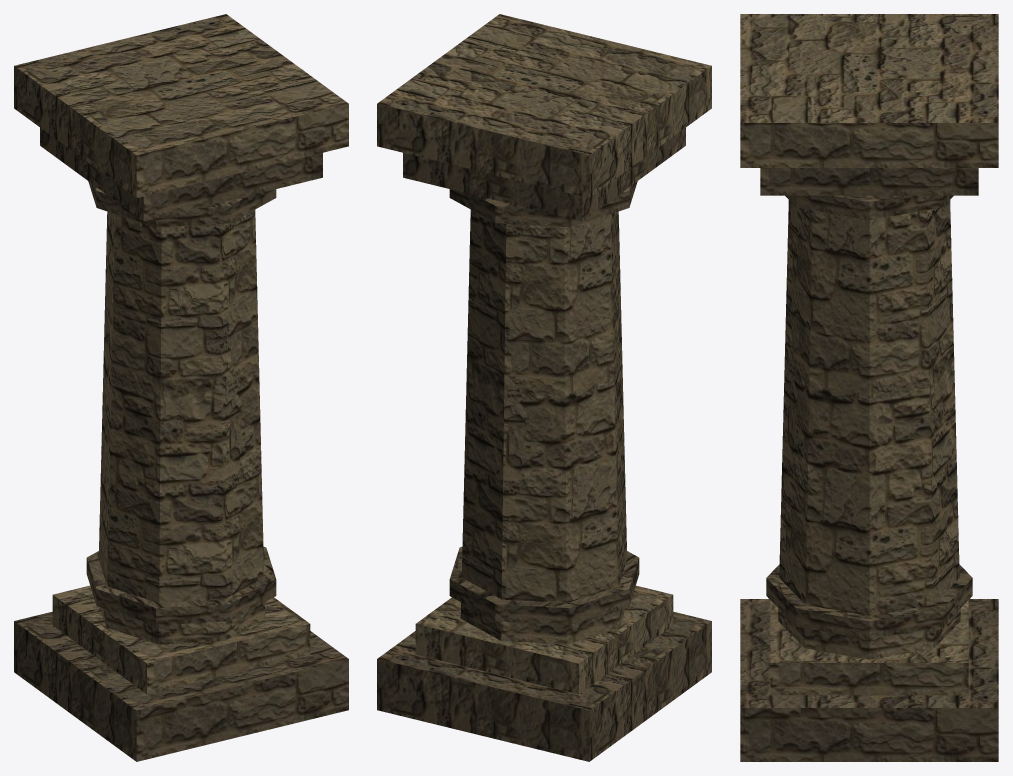
File: dungeon_pillar_01.glb
3 renders of one model, left to right at view 1: azimuth 30°, elevation 25°; view 2: azimuth 150°, elevation 25°; view 3: azimuth 270°, elevation 25°, orthographic. The views are drawn at different scales.
Parts seen in each view (by area): view 1: dungeon_pillar_01; view 2: dungeon_pillar_01; view 3: dungeon_pillar_01.
Boxes of the visible parts, x1,y1,x2,y2 form: dungeon_pillar_01: (14, 14, 348, 761); dungeon_pillar_01: (377, 14, 711, 761); dungeon_pillar_01: (740, 14, 998, 761).
Size of the model in its own units: 1.3 by 3.55 by 1.3.
Materials: 2 (2 with a texture image).
